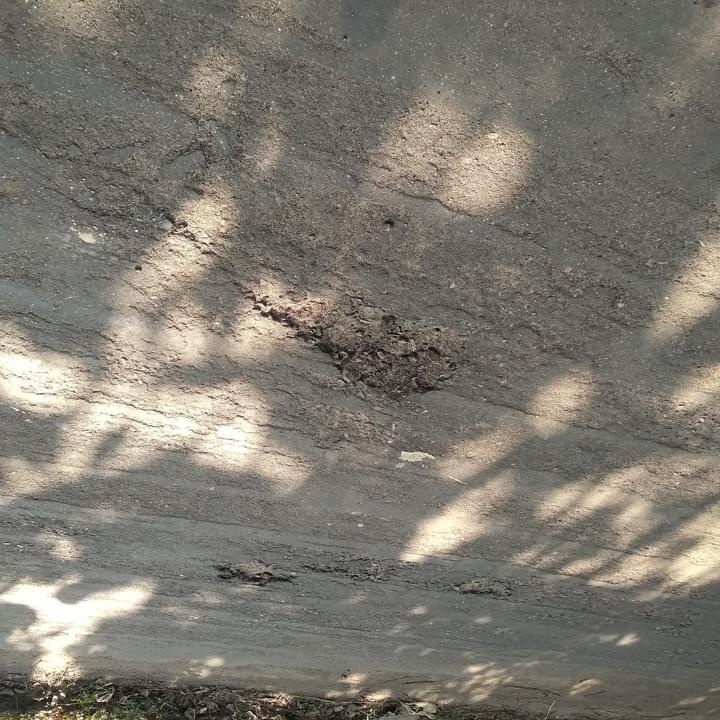pothole: (244, 279, 469, 401), (211, 556, 298, 590), (448, 575, 520, 600)
